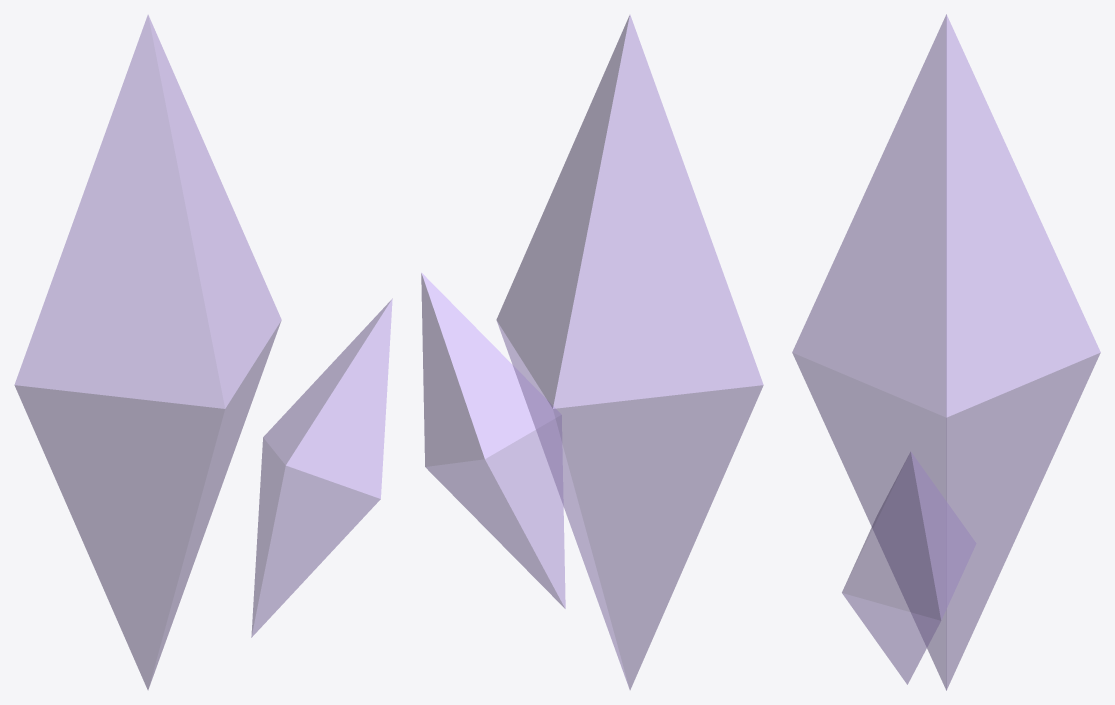
Rendered from abstract-crystal-001.glb.
The picture shows the model from 3 angles, left to right: view 1: azimuth 30°, elevation 25°; view 2: azimuth 150°, elevation 25°; view 3: azimuth 270°, elevation 25°; orthographic projection.
Visible parts, largest first — view 1: abstract-crystal-001-0, abstract-crystal-001-1; view 2: abstract-crystal-001-0, abstract-crystal-001-1; view 3: abstract-crystal-001-0, abstract-crystal-001-1.
Part boxes in pixels (bbox=[...]): abstract-crystal-001-0: bbox=[14, 15, 281, 689]; abstract-crystal-001-1: bbox=[251, 298, 392, 637]; abstract-crystal-001-0: bbox=[496, 15, 763, 689]; abstract-crystal-001-1: bbox=[421, 272, 565, 608]; abstract-crystal-001-0: bbox=[792, 14, 1100, 690]; abstract-crystal-001-1: bbox=[842, 451, 976, 684].
Size of the model in its own units: 1.67 by 3 by 1.24.
